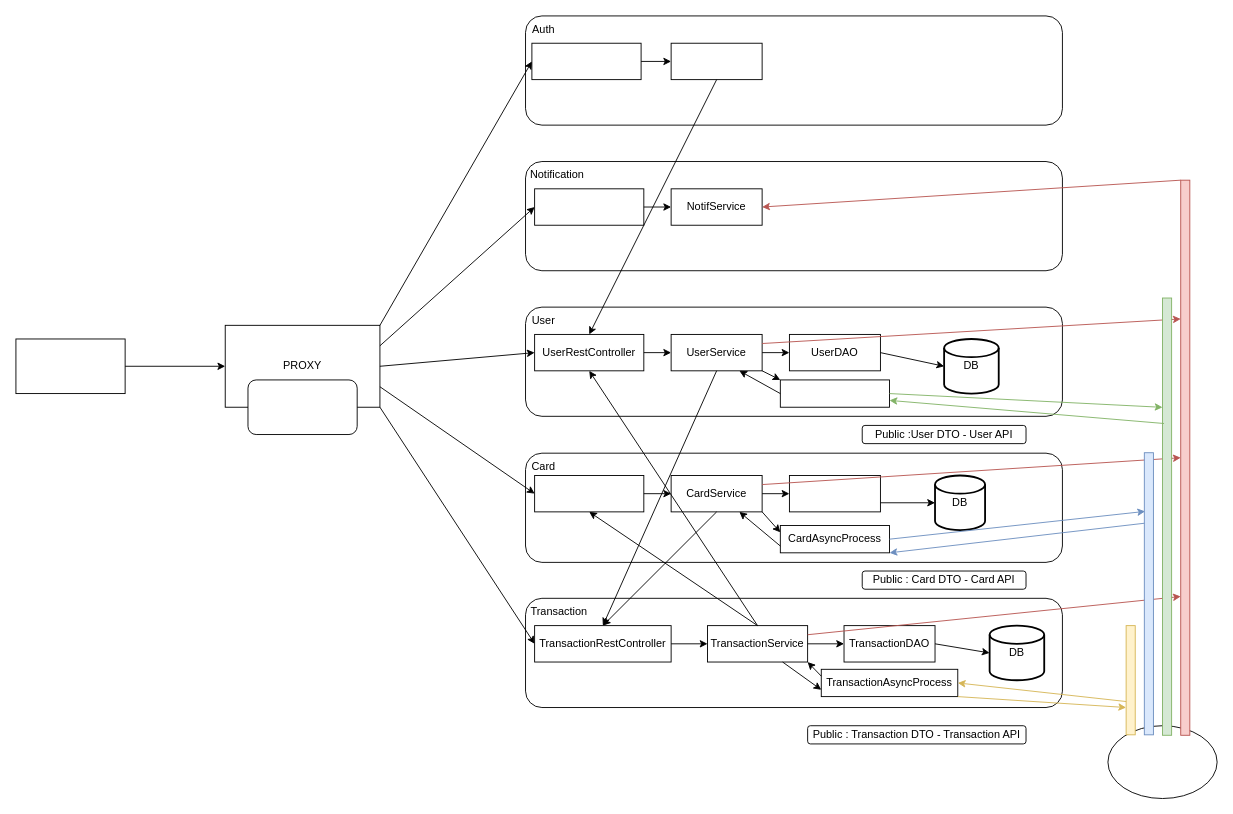
The diagram is 1233 pixels wide and 814 high, and some of its shapes have lost their labels. The shapes that lost their labels are listed below. From the top down, each one's box as (x1, y1, x2, y2) in pixels, then its label:
(531, 42, 641, 80): AuthRestController
(670, 42, 762, 80): AuthService
(534, 188, 644, 225): NotifRestController
(15, 338, 125, 394): WebBrowser
(247, 379, 357, 435): Pages Web statiques
(779, 379, 890, 407): UserAsyncProcess
(534, 475, 644, 512): CardRestController
(789, 475, 880, 512): CardDAO
(1107, 725, 1217, 799): ESB
